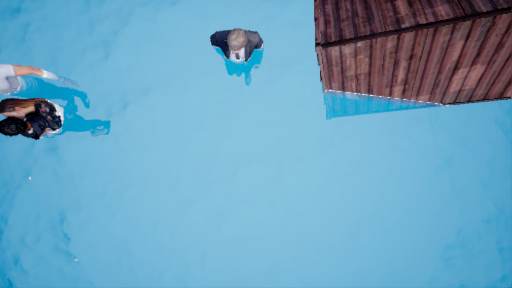person: (3, 97, 99, 151), (205, 25, 267, 100)
